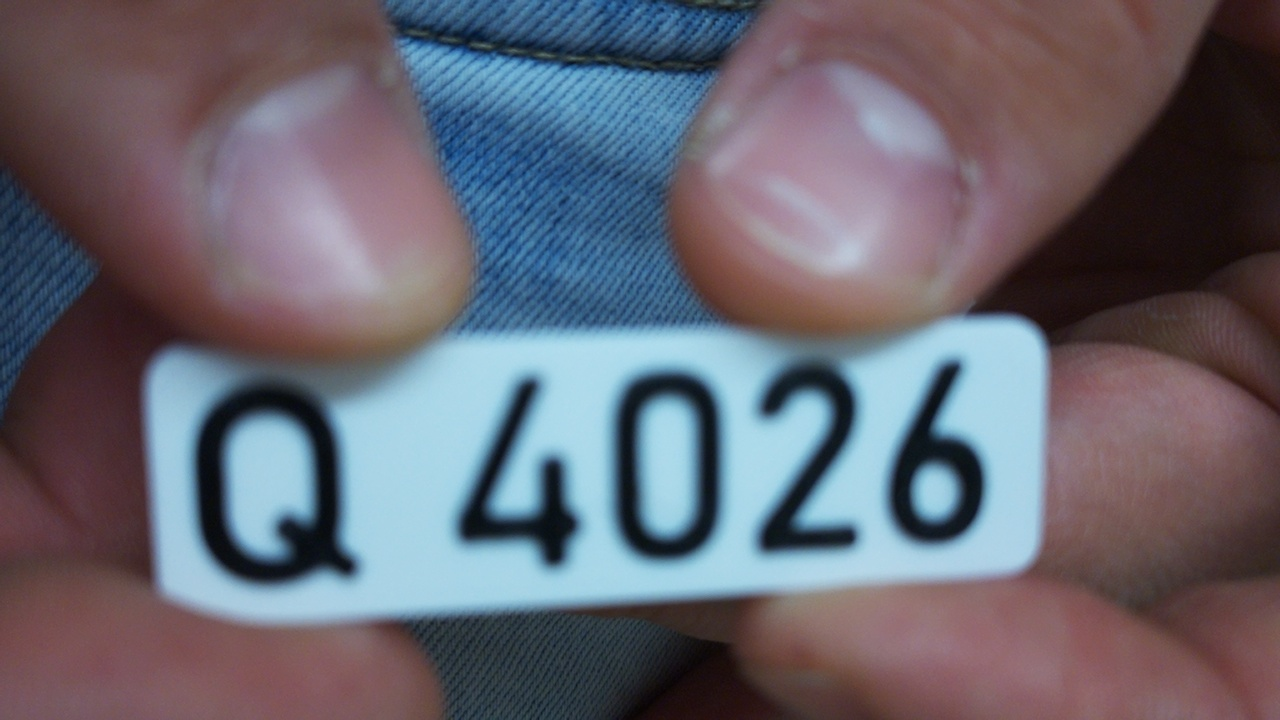license_plate: (137, 310, 1055, 636)
